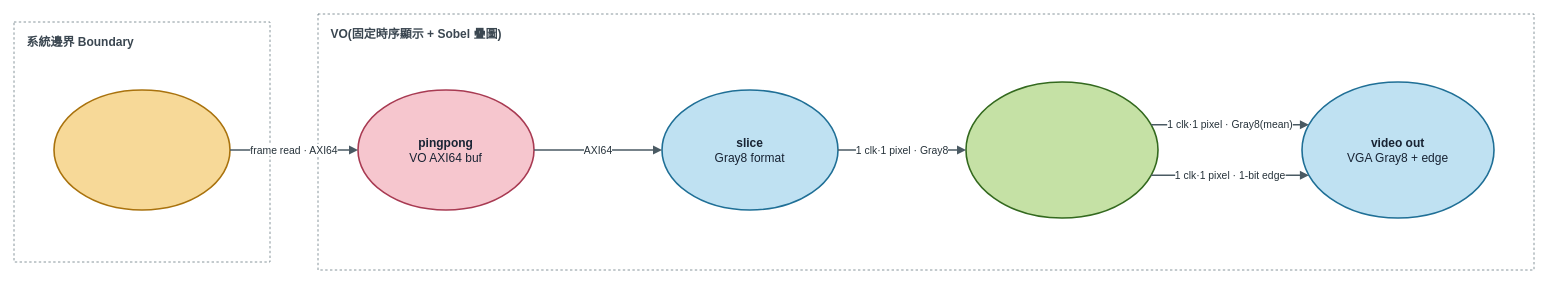
Some shapes in this 1548 by 284 pixel diagram are drawn without their labels. The shapes that lost their labels are listed below. From the top down, each one's box as (x1, y1, x2, y2) in pixels, then its label:
(53, 89, 230, 210): DDR frame buffer
(965, 81, 1158, 218): user_ip mean3x3_linebuffer + sobel · Gray8
